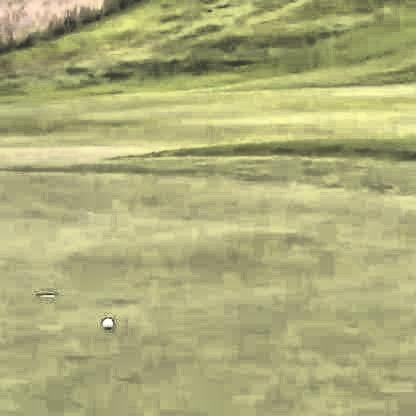golfball: (100, 315, 111, 329)
